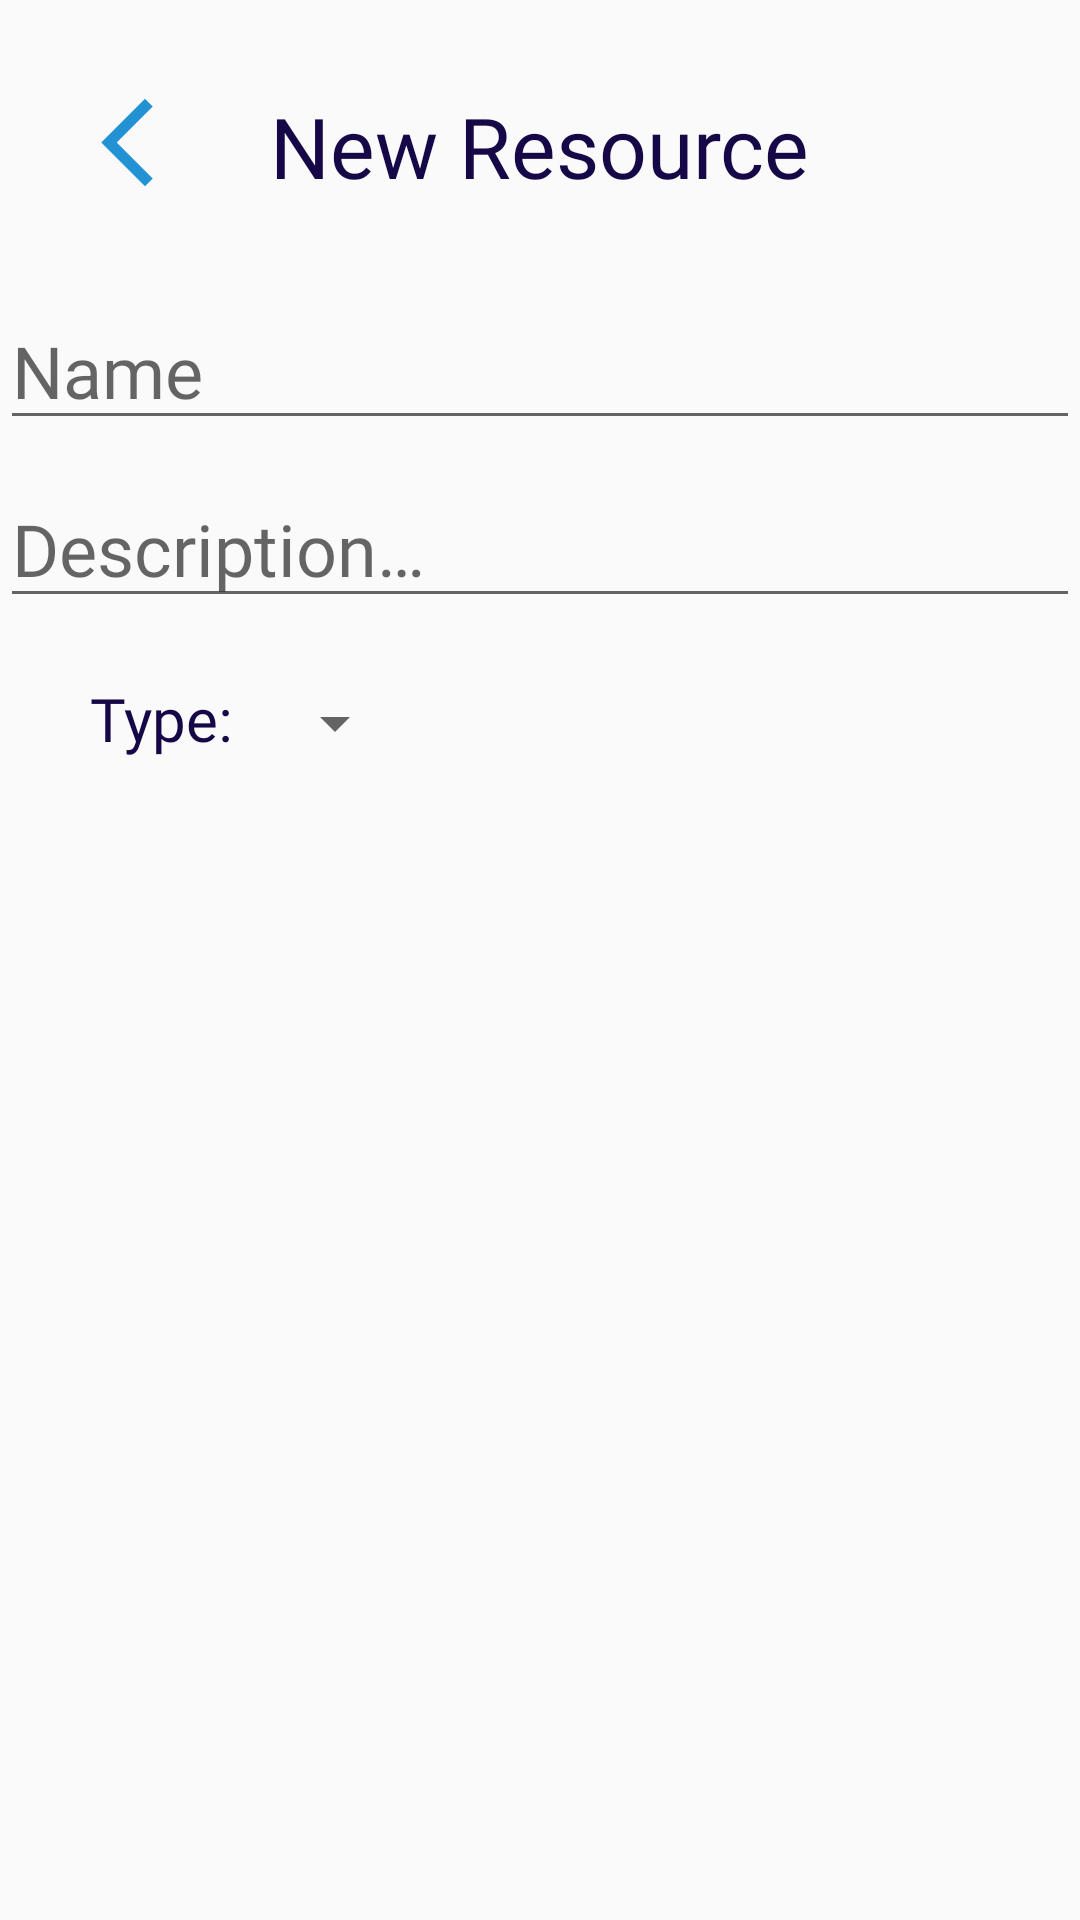

Where icons sit on this 1080×1920 app screen, as (x1, y1, x2, y2):
back: (101, 99, 153, 186)
